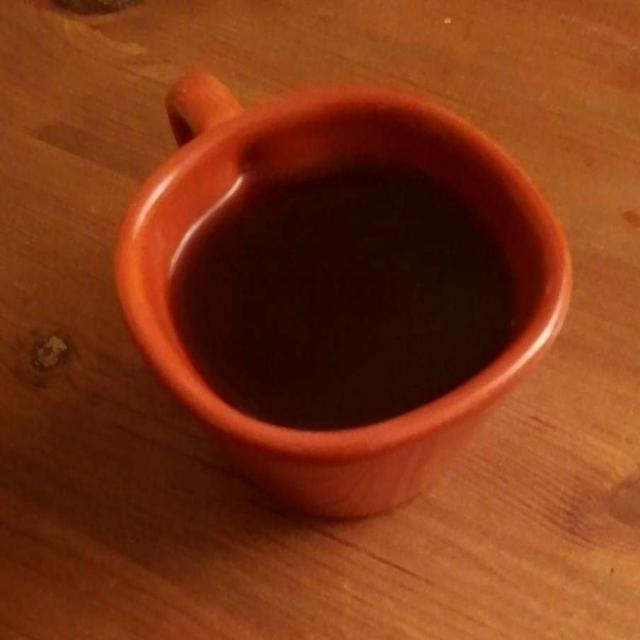coffee: (170, 169, 515, 440)
